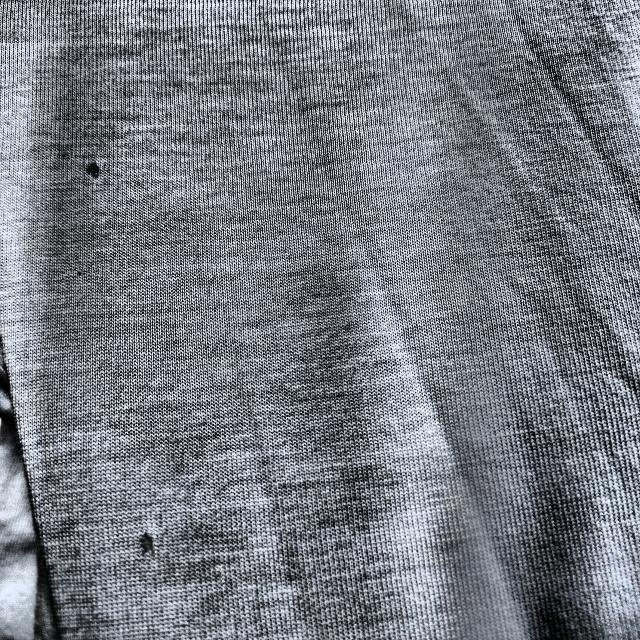Hole: (132, 528, 170, 566), (75, 152, 111, 185)
